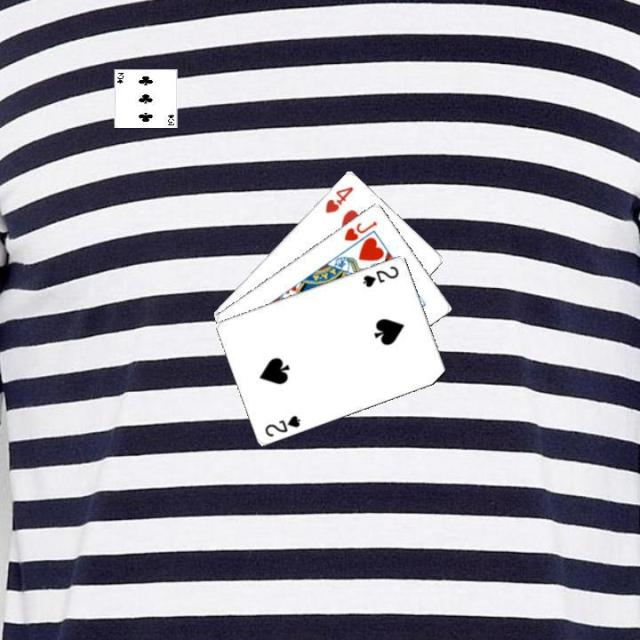2S: (359, 261, 401, 289), (262, 411, 302, 438)
4H: (321, 182, 355, 215)
JH: (341, 217, 378, 243)
